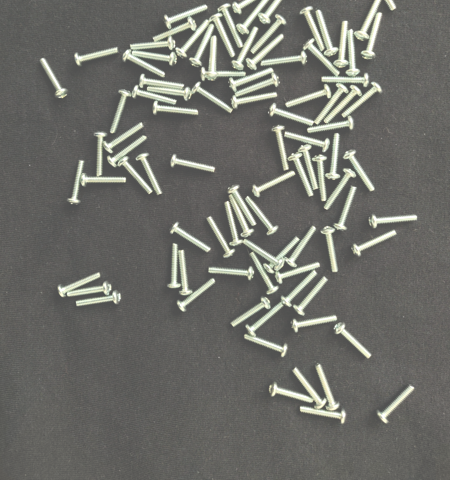longscrew: (375, 382, 417, 426), (322, 84, 364, 125), (331, 321, 374, 361), (340, 80, 384, 119), (290, 365, 328, 410), (249, 13, 289, 55), (313, 81, 350, 126), (322, 167, 358, 213), (263, 234, 303, 275), (246, 31, 287, 71), (342, 149, 378, 194), (280, 268, 320, 308), (245, 299, 286, 338), (175, 276, 217, 314), (293, 274, 331, 316), (175, 17, 212, 60), (37, 54, 70, 102), (242, 237, 287, 272), (284, 223, 318, 269), (302, 38, 342, 76), (190, 81, 236, 114), (204, 214, 237, 260), (244, 195, 280, 237), (313, 361, 342, 413), (102, 120, 146, 154), (168, 221, 213, 254), (225, 183, 258, 228), (117, 156, 154, 196), (248, 250, 280, 296), (350, 228, 399, 258), (229, 296, 273, 329), (287, 150, 317, 198), (107, 133, 149, 167), (207, 13, 237, 60), (134, 151, 165, 196), (298, 5, 327, 53), (216, 2, 245, 50), (241, 331, 290, 359), (162, 1, 209, 30), (56, 269, 103, 298), (227, 192, 256, 239), (231, 25, 260, 72), (228, 65, 276, 93), (252, 168, 298, 197), (333, 183, 359, 234), (121, 50, 168, 78), (188, 22, 216, 69), (107, 87, 134, 135), (234, 71, 282, 98), (274, 259, 323, 285), (152, 15, 199, 42), (354, 0, 384, 42), (237, 0, 273, 35), (266, 380, 316, 405), (266, 103, 316, 128), (314, 8, 339, 57), (360, 11, 384, 62), (285, 83, 333, 108), (73, 44, 122, 68), (283, 129, 332, 153), (318, 225, 341, 275), (296, 143, 320, 190), (167, 152, 218, 174), (223, 200, 246, 248), (289, 313, 339, 335), (130, 84, 179, 106), (298, 404, 349, 425), (65, 157, 86, 207), (306, 115, 357, 135), (270, 124, 291, 172), (367, 212, 420, 231), (324, 130, 343, 183), (230, 90, 280, 110), (75, 289, 122, 310), (131, 47, 179, 67), (261, 49, 309, 69), (66, 280, 114, 299), (136, 73, 186, 91), (311, 153, 329, 203), (258, 0, 294, 25), (130, 34, 177, 53), (177, 247, 194, 297), (206, 264, 256, 281), (321, 71, 371, 88), (151, 100, 200, 117), (91, 130, 108, 179), (165, 242, 182, 291), (198, 66, 248, 82), (78, 172, 128, 188), (346, 27, 362, 77), (334, 18, 350, 68), (146, 85, 193, 102), (204, 34, 220, 82), (232, 0, 277, 15), (365, 0, 400, 13)
